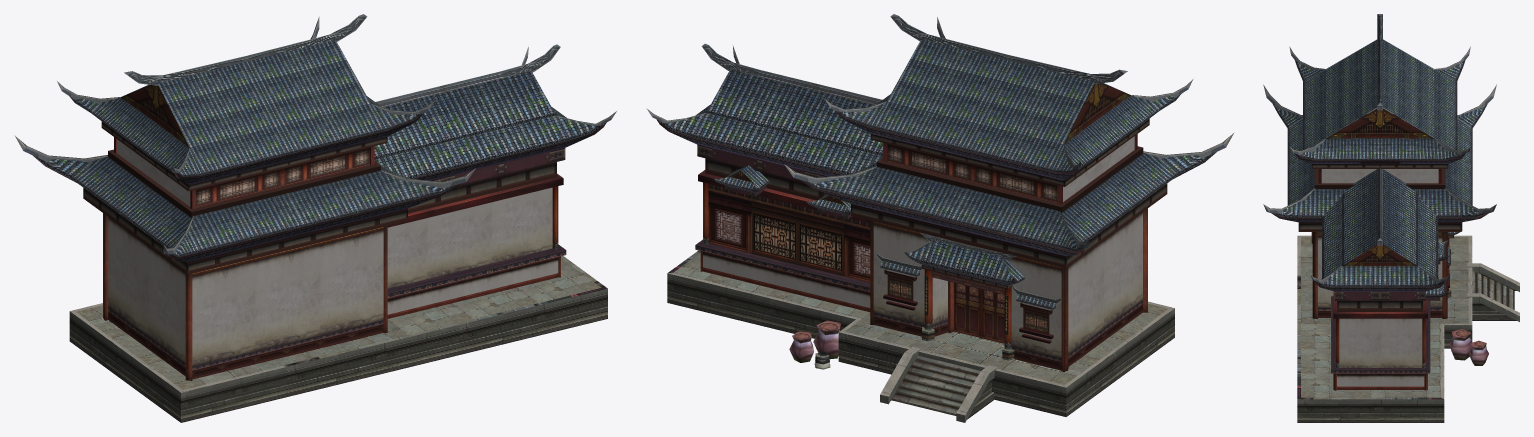
Rendered from Maincity06_Building_mj04_LOD1.FBX.
3 views of the same model, side by side, from view 1: azimuth 30°, elevation 25°; view 2: azimuth 150°, elevation 25°; view 3: azimuth 270°, elevation 25° (orthographic). The views are drawn at different scales.
Visible parts, largest first — view 1: Maincity06_Building_mj04_01_LOD1, Maincity06_Building_mj04_02_LOD1; view 2: Maincity06_Building_mj04_01_LOD1, Maincity06_Building_mj04_02_LOD1; view 3: Maincity06_Building_mj04_01_LOD1, Maincity06_Building_mj04_02_LOD1.
Boxes of the visible parts, x1,y1,x2,y2 form: Maincity06_Building_mj04_01_LOD1: [32, 35, 607, 422]; Maincity06_Building_mj04_02_LOD1: [14, 14, 616, 380]; Maincity06_Building_mj04_01_LOD1: [657, 34, 1216, 422]; Maincity06_Building_mj04_02_LOD1: [646, 14, 1234, 371]; Maincity06_Building_mj04_01_LOD1: [1271, 39, 1519, 422]; Maincity06_Building_mj04_02_LOD1: [1263, 14, 1496, 390].
Size of the model in its own units: 2507 by 1559 by 1466.
